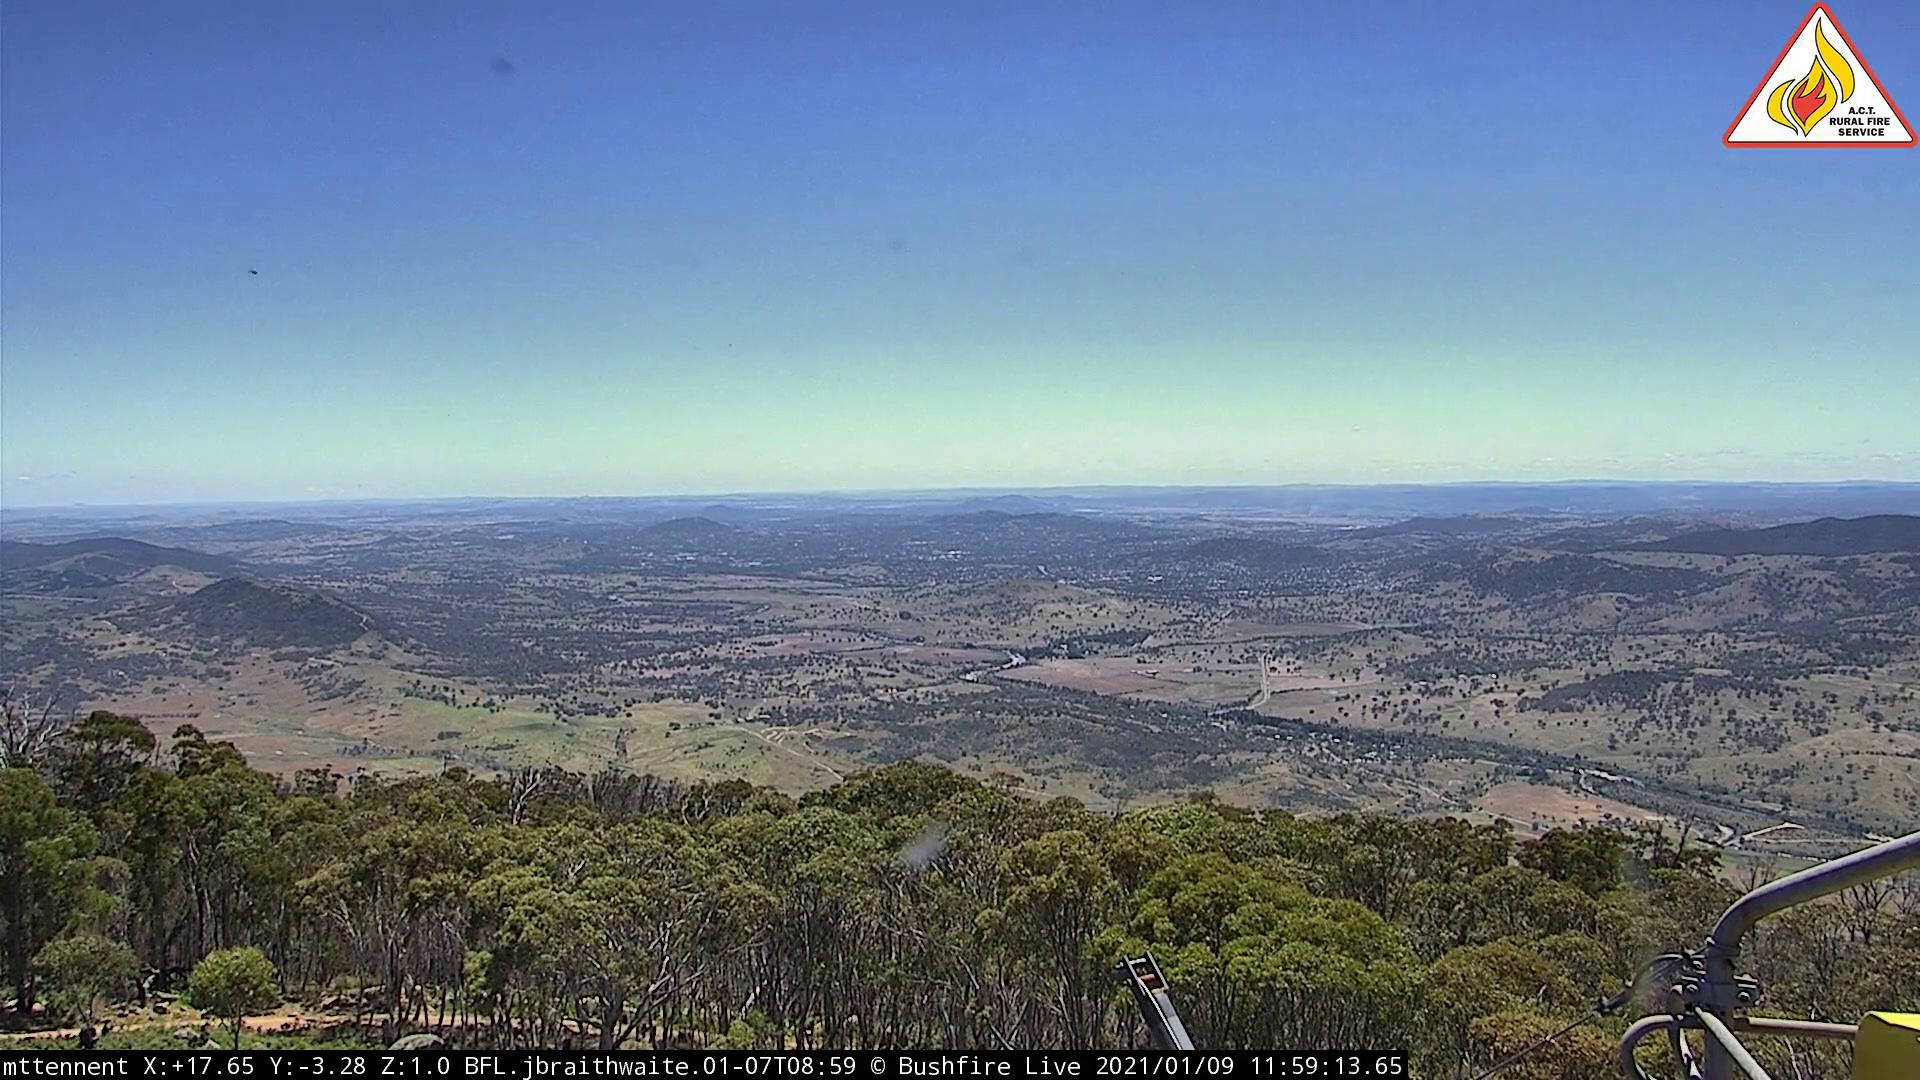Smoke: (1303, 498, 1323, 520)
